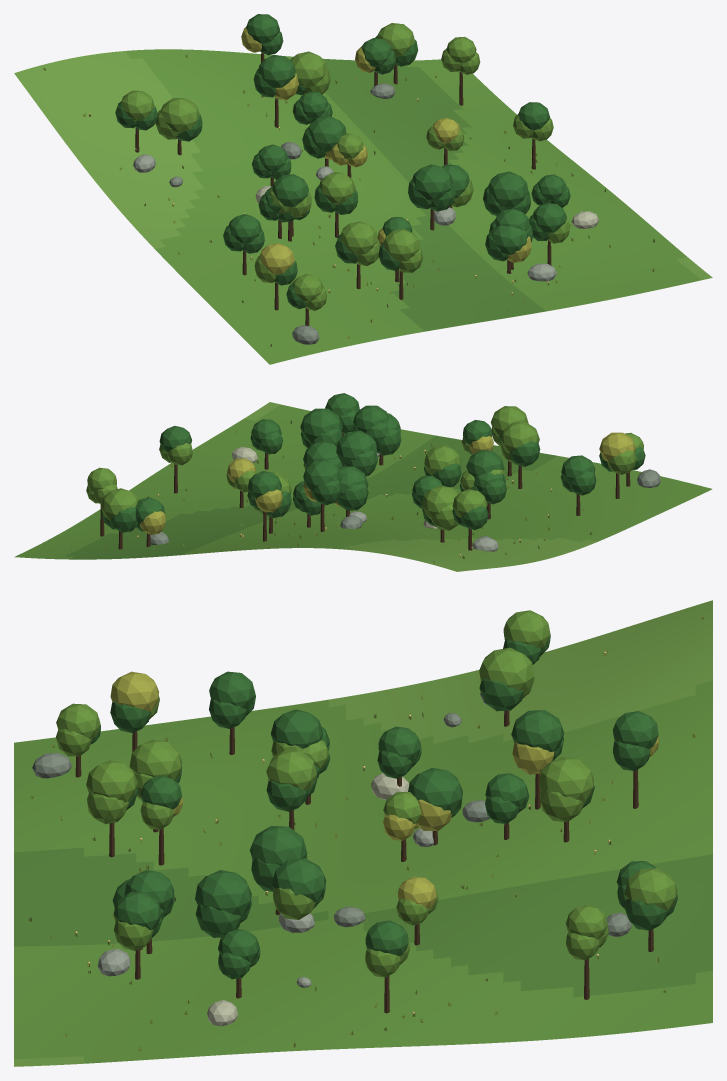
Rendered from Chunk_X3_Y0_Z-3.fbx.
The picture shows the model from 3 angles, top to bottom: view 1: azimuth 30°, elevation 25°; view 2: azimuth 150°, elevation 25°; view 3: azimuth 270°, elevation 25°; orthographic projection. The views are drawn at different scales.
Visible parts, largest first — view 1: Terrain.042, Canopies.041, Rocks.042, Trunks.041, GroundCover.042; view 2: Terrain.042, Canopies.041, Trunks.041, Rocks.042, GroundCover.042; view 3: Terrain.042, Canopies.041, Rocks.042, Trunks.041, GroundCover.042.
Boxes of the visible parts, x1=… form: Terrain.042: x1=14, y1=49, x2=712, y2=364; Canopies.041: x1=115, y1=14, x2=570, y2=310; Rocks.042: x1=133, y1=83, x2=598, y2=344; Trunks.041: x1=135, y1=53, x2=551, y2=325; GroundCover.042: x1=43, y1=54, x2=654, y2=346; Terrain.042: x1=15, y1=402, x2=712, y2=571; Canopies.041: x1=86, y1=393, x2=645, y2=534; Trunks.041: x1=100, y1=433, x2=630, y2=550; Rocks.042: x1=146, y1=447, x2=660, y2=551; GroundCover.042: x1=70, y1=420, x2=683, y2=563; Terrain.042: x1=14, y1=600, x2=712, y2=1066; Canopies.041: x1=56, y1=610, x2=677, y2=979; Rocks.042: x1=32, y1=692, x2=631, y2=1026; Trunks.041: x1=75, y1=692, x2=653, y2=1013; GroundCover.042: x1=29, y1=615, x2=703, y2=1051.
Size of the model in its own units: 100 by 32.41 by 100.
